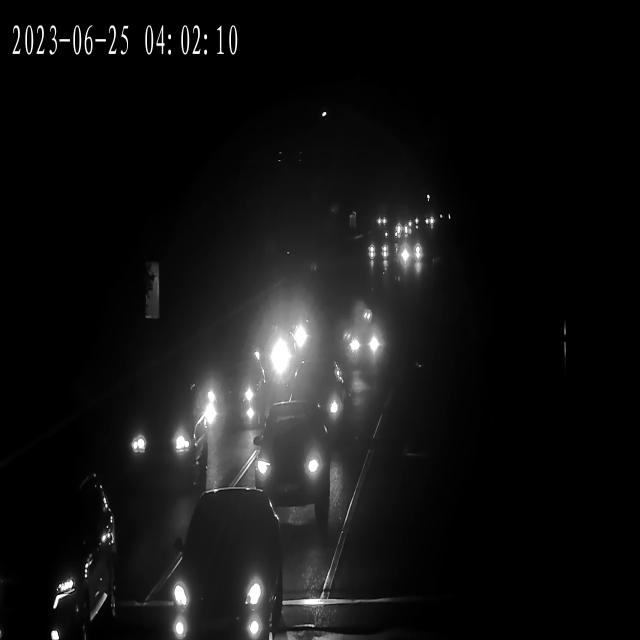Car: (1, 483, 118, 638), (161, 492, 283, 636), (118, 376, 215, 490), (167, 355, 265, 436), (253, 421, 331, 504), (283, 366, 346, 437), (248, 334, 299, 390), (343, 325, 385, 364), (398, 242, 424, 265), (366, 239, 389, 262), (412, 214, 433, 228), (392, 221, 410, 236), (373, 214, 390, 226)
